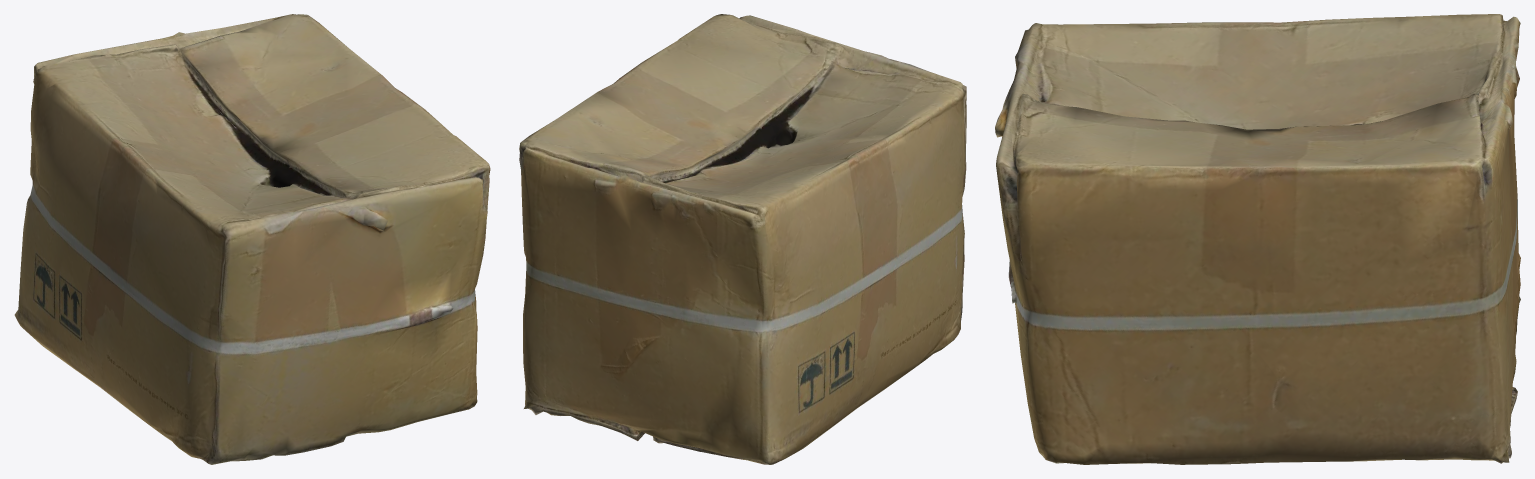
The model's file is cardboard_hq.glb.
3 views of the same model, side by side, from view 1: azimuth 30°, elevation 25°; view 2: azimuth 150°, elevation 25°; view 3: azimuth 270°, elevation 25° (orthographic). The views are drawn at different scales.
Parts seen in each view (by area): view 1: cardboard_box_01; view 2: cardboard_box_01; view 3: cardboard_box_01.
Boxes of the visible parts, x1,y1,x2,y2 form: cardboard_box_01: (14, 14, 490, 464); cardboard_box_01: (519, 14, 966, 464); cardboard_box_01: (995, 14, 1520, 464).
Size of the model in its own units: 0.3868 by 0.3418 by 0.5159.
Materials: 1 (1 with a texture image).
